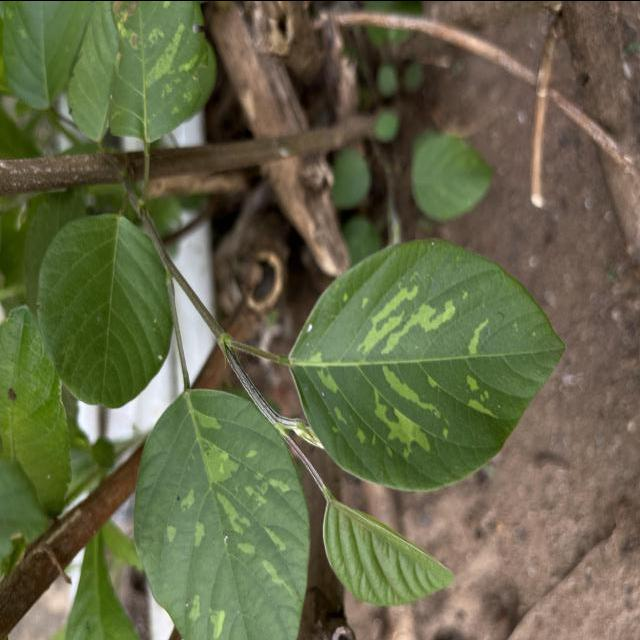Desmodium gangeticum: (284, 234, 570, 494), (130, 384, 314, 638)
